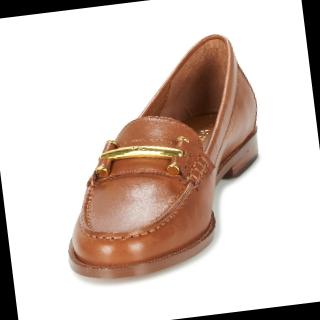loafers: (40, 22, 279, 288)
